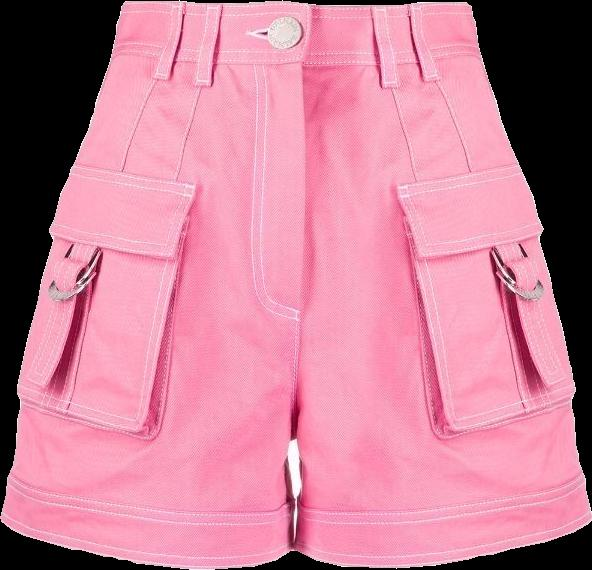Hemline: (290, 512, 591, 569), (0, 515, 298, 569)
Pantleg: (1, 2, 314, 567), (292, 2, 591, 567)
Waistline: (110, 51, 482, 69), (122, 0, 466, 10)
